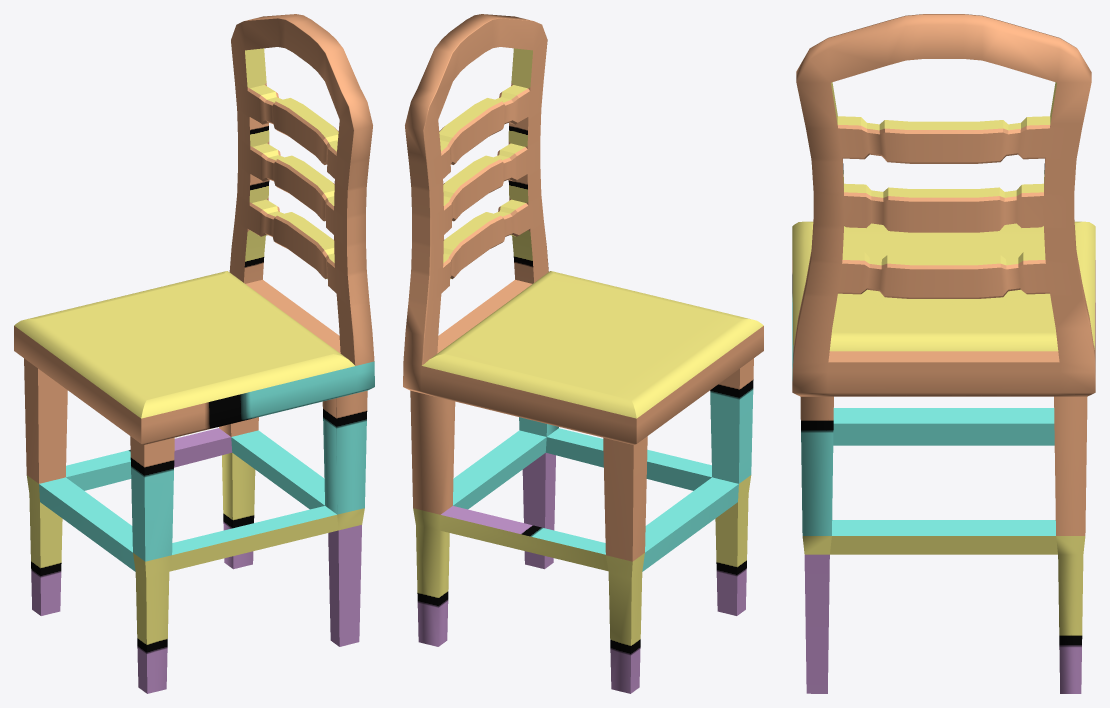
File: LobbyChair02.fbx
3 views of the same model, side by side, from view 1: azimuth 30°, elevation 25°; view 2: azimuth 150°, elevation 25°; view 3: azimuth 270°, elevation 25° (orthographic). The views are drawn at different scales.
Visible parts, largest first — view 1: LobbyChairs2_MESH; view 2: LobbyChairs2_MESH; view 3: LobbyChairs2_MESH.
Boxes of the visible parts, x1,y1,x2,y2 form: LobbyChairs2_MESH: (14,14,374,693); LobbyChairs2_MESH: (403,14,763,693); LobbyChairs2_MESH: (792,14,1095,693).
Size of the model in its own units: 60.05 by 135 by 54.47.
